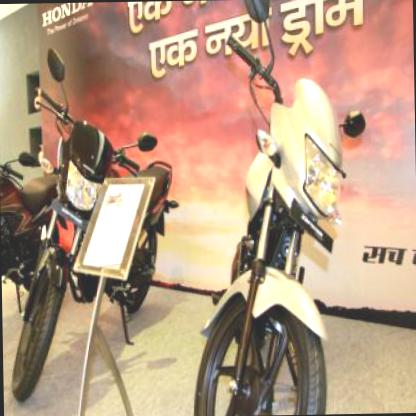motorcycle: (184, 0, 372, 415), (6, 45, 182, 402), (0, 112, 64, 352)
